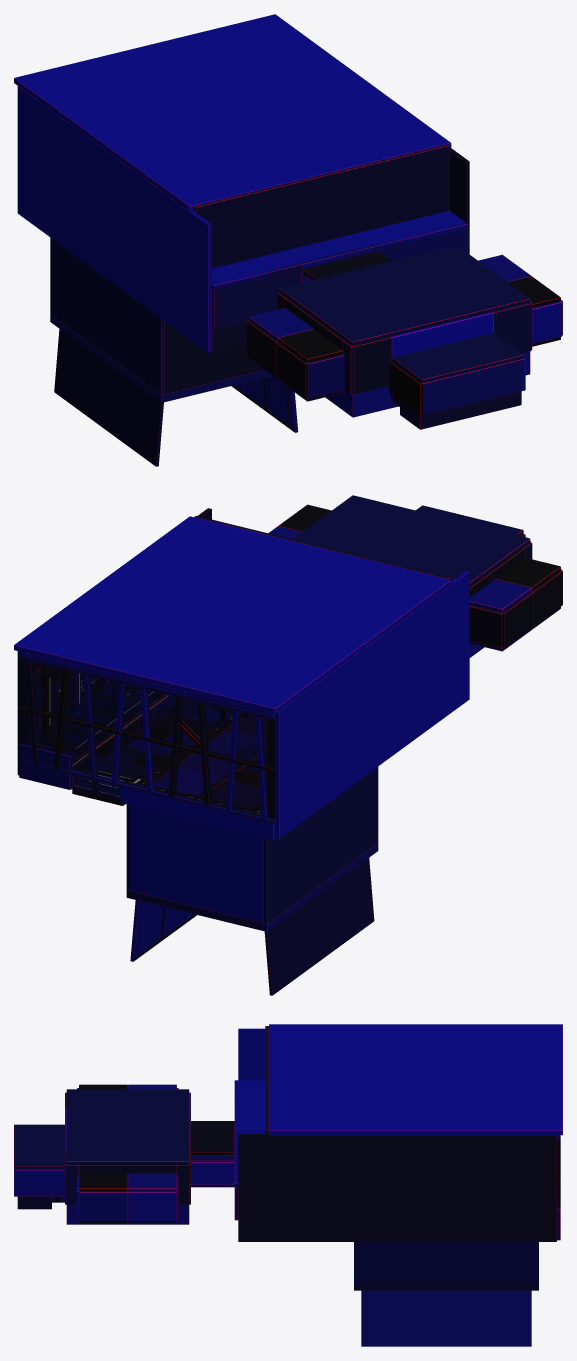
The model's file is ekster_hub.glb.
3 renders of one model, top to bottom at view 1: azimuth 30°, elevation 25°; view 2: azimuth 150°, elevation 25°; view 3: azimuth 270°, elevation 25°, orthographic. The views are drawn at different scales.
Visible parts, largest first — view 1: Hangar_Shell, Hangar_Roof, Bridge_Shell, Workdeck_Roof, Workdeck_Shell, Bridge_Roof; view 2: Hangar_Shell, Hangar_Roof, Hangar_Glass, Workdeck_Roof, Workdeck_Shell, Hangar_Detail, BayDoor_R, BayDoor_L, Hangar_Props, Bridge_Shell; view 3: Hangar_Shell, Hangar_Roof, Workdeck_Roof, Workdeck_Shell, Bridge_Roof, Bridge_Shell.
Part boxes in pixels (x1=…): Hangar_Shell: x1=17, y1=16, x2=469, y2=466; Hangar_Roof: x1=14, y1=14, x2=451, y2=211; Bridge_Shell: x1=194, y1=144, x2=467, y2=351; Workdeck_Roof: x1=249, y1=245, x2=560, y2=383; Workdeck_Shell: x1=247, y1=291, x2=562, y2=429; Bridge_Roof: x1=212, y1=210, x2=467, y2=289; Hangar_Shell: x1=17, y1=508, x2=469, y2=995; Hangar_Roof: x1=14, y1=516, x2=451, y2=722; Hangar_Glass: x1=20, y1=659, x2=274, y2=819; Workdeck_Roof: x1=268, y1=495, x2=560, y2=612; Workdeck_Shell: x1=469, y1=534, x2=562, y2=657; Hangar_Detail: x1=34, y1=666, x2=258, y2=961; BayDoor_R: x1=155, y1=716, x2=266, y2=797; BayDoor_L: x1=202, y1=750, x2=266, y2=809; Hangar_Props: x1=70, y1=674, x2=228, y2=795; Bridge_Shell: x1=194, y1=516, x2=449, y2=579; Hangar_Shell: x1=238, y1=1025, x2=560, y2=1346; Hangar_Roof: x1=269, y1=1024, x2=562, y2=1135; Workdeck_Roof: x1=14, y1=1084, x2=189, y2=1191; Workdeck_Shell: x1=14, y1=1088, x2=190, y2=1224; Bridge_Roof: x1=191, y1=1080, x2=265, y2=1186; Bridge_Shell: x1=191, y1=1026, x2=268, y2=1220.
Size of what is drawn, in the model's own units: 20.6 by 23.04 by 44.8.
